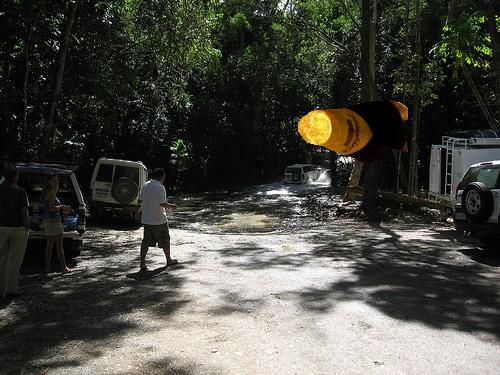tampered: (299, 101, 408, 165)
